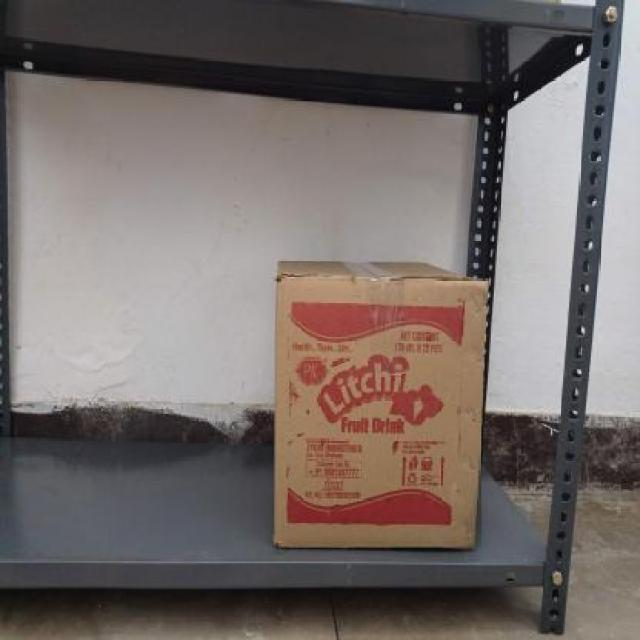box: (274, 275, 483, 553)
